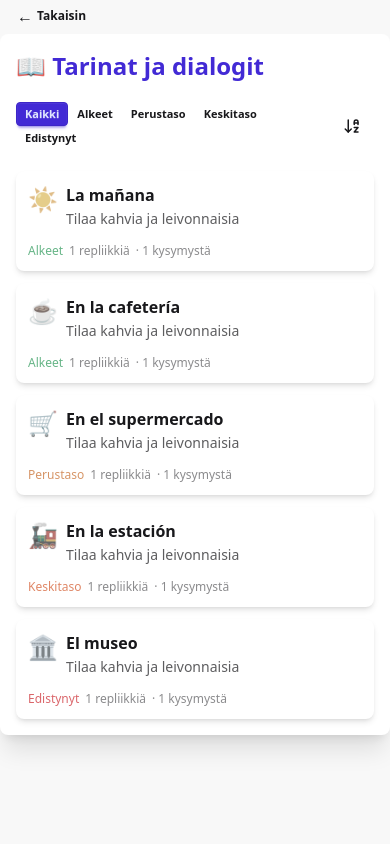
Test: Tarinat Page › filters stories by A1 level
The image size is (390, 844).
Expected: the heading "En la cafetería" is shown, 66,296 -> 180,318
Click on Alkeet (A1) filter button
Click the 1st text "Alkeet": (95,114) 77,106 -> 113,122
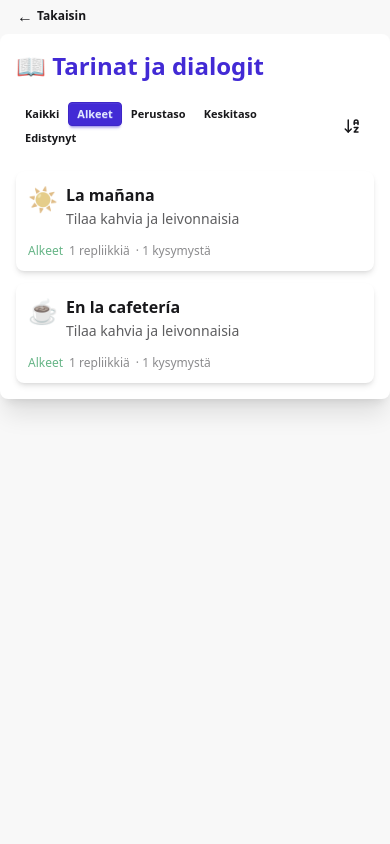
Result: the button "En el supermercado" is gone
Result: the button "En la estación" is gone
Result: the button "El museo" is gone
